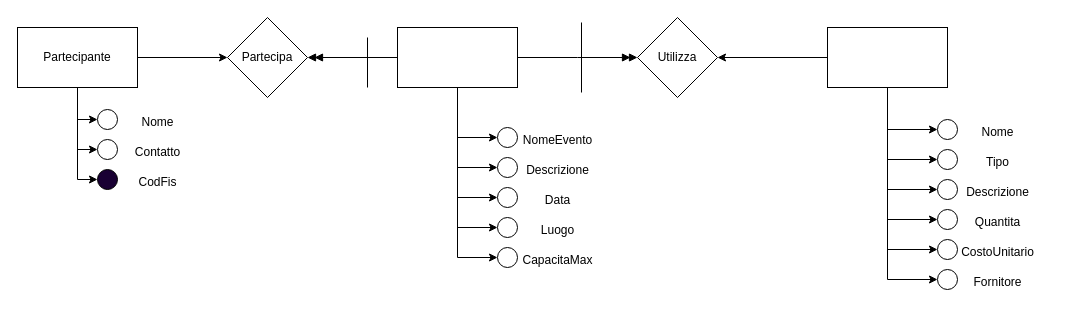
Image size: 1065x315. Some labels were removed from this diagram. Here are the shapes that lost their labels. From the top down, the box of each, then its label:
(396, 26, 518, 88): Evento
(826, 26, 948, 88): Risorsa
